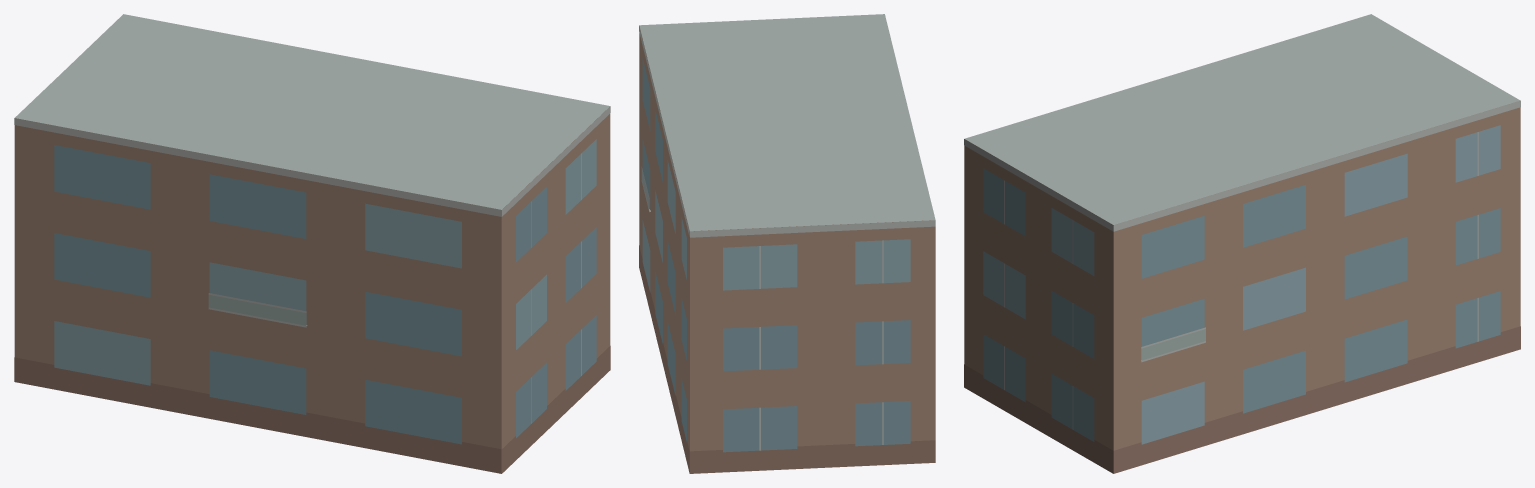
File: survey-upis-32800512.glb
3 views of the same model, side by side, from view 1: azimuth 30°, elevation 25°; view 2: azimuth 150°, elevation 25°; view 3: azimuth 270°, elevation 25° (orthographic). The views are drawn at different scales.
Parts seen in each view (by area): view 1: survey-upis-32800512.tmp; view 2: survey-upis-32800512.tmp; view 3: survey-upis-32800512.tmp.
Boxes of the visible parts, <box> form: survey-upis-32800512.tmp: <box>14,14,610,473</box>; survey-upis-32800512.tmp: <box>639,14,935,473</box>; survey-upis-32800512.tmp: <box>964,14,1520,473</box>.
Size of the model in its own units: 16.67 by 9.15 by 18.56.
